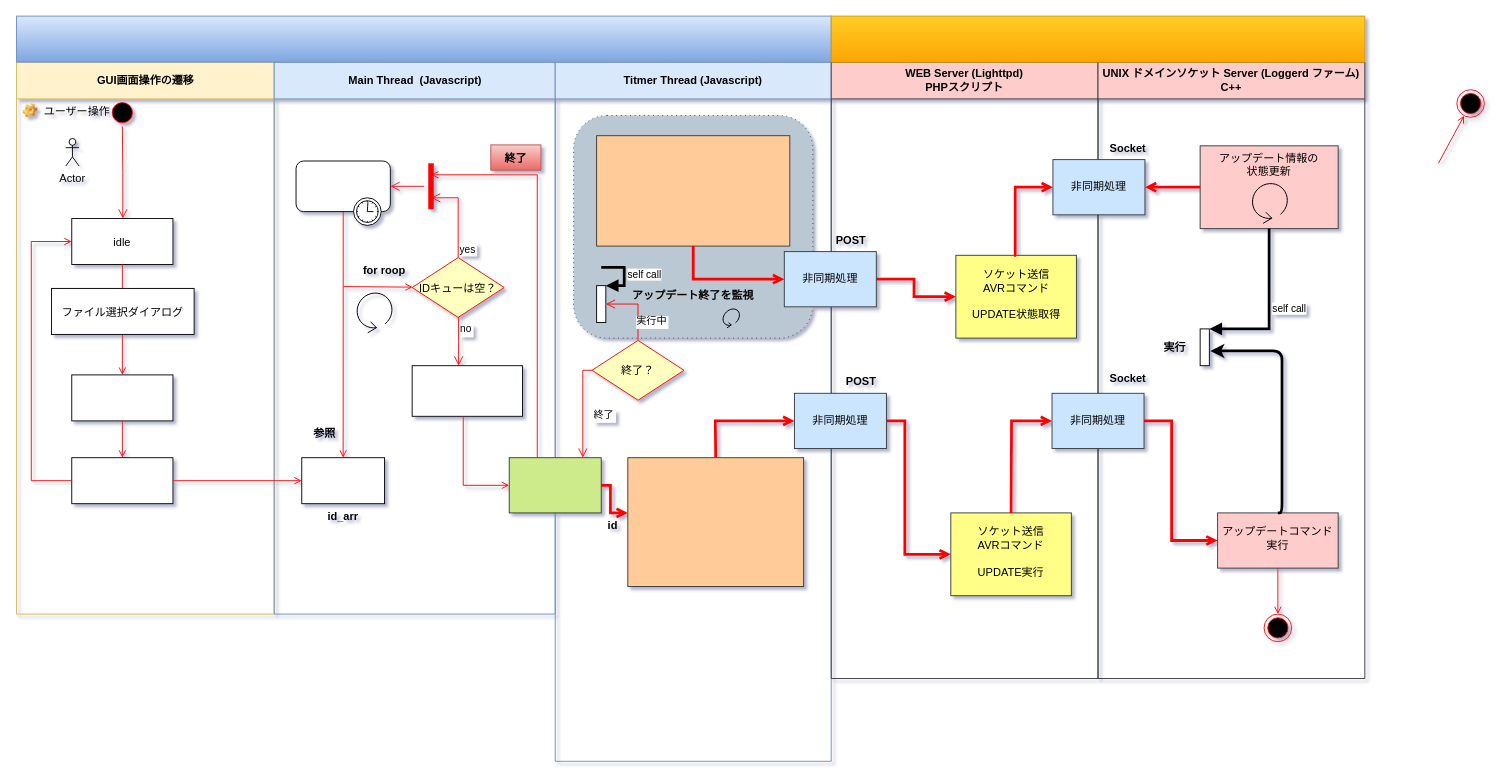
The diagram is 1506 pixels wide and 783 high, and some of its shapes have lost their labels. Each missing label, with the centre of its shape:
"Arria 10 SoC - Linux OS (poxy) Server Side" belongs at [1097,38].
"IDキュー" belongs at [343,480].
"IDキューの確認" belongs at [342,186].
"WEBブラウザ動作 Client Side" belongs at [423,38].
"アップデート取得コマンド実行 get_uptade_state.phpへポスト Ajax type: post" belongs at [693,190].
"アップデート開始 ボタン" belongs at [122,480].
"アップデート開始コマンド実行 upload.phpへポスト Ajax async: false?" belongs at [715,521].
"ファイル選択" belongs at [122,397].
"処理スレッドを実行" belongs at [467,390].
"同期処理" belongs at [554,485].
